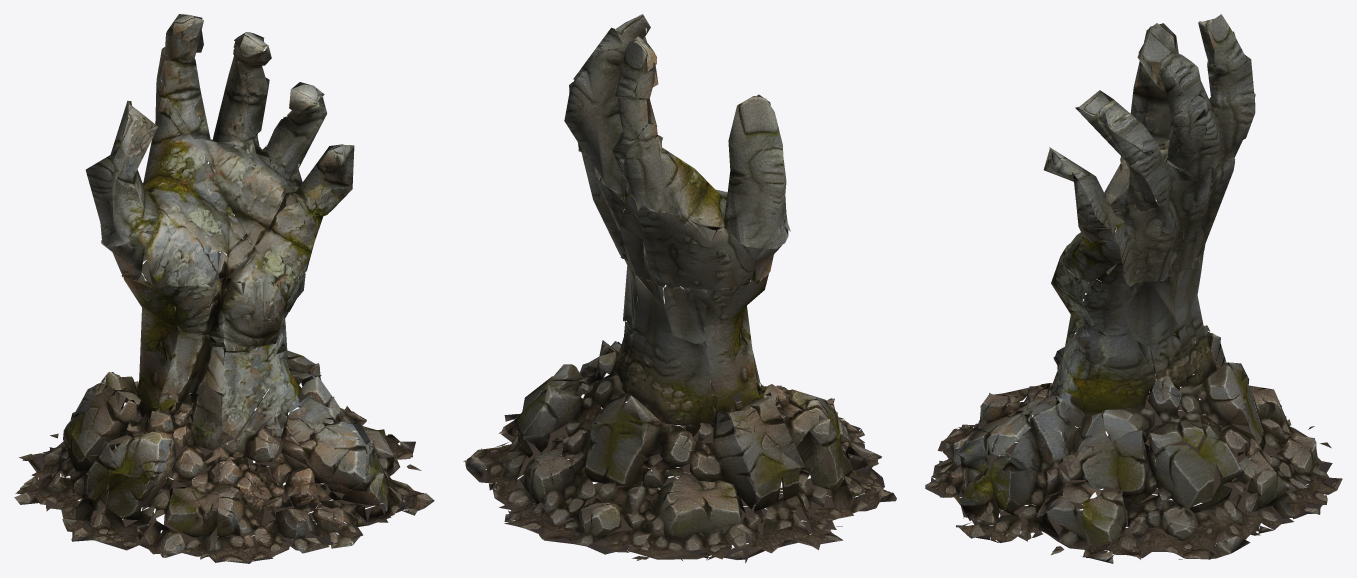
File: ColossusHand.fbx
3 views of the same model, side by side, from view 1: azimuth 30°, elevation 25°; view 2: azimuth 150°, elevation 25°; view 3: azimuth 270°, elevation 25° (orthographic). The views are drawn at different scales.
Visible parts, largest first — view 1: ColossusHand_Body; view 2: ColossusHand_Body; view 3: ColossusHand_Body.
Boxes of the visible parts, bbox=[...] form: ColossusHand_Body: bbox=[14, 14, 434, 563]; ColossusHand_Body: bbox=[463, 14, 896, 563]; ColossusHand_Body: bbox=[925, 14, 1342, 563].
Size of the model in its own units: 0.8523 by 1 by 0.819.
Materials: 1 (1 with a texture image).
